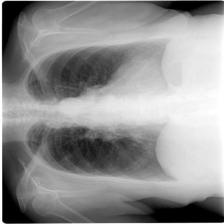tuberculosis: (19, 36, 179, 186)
